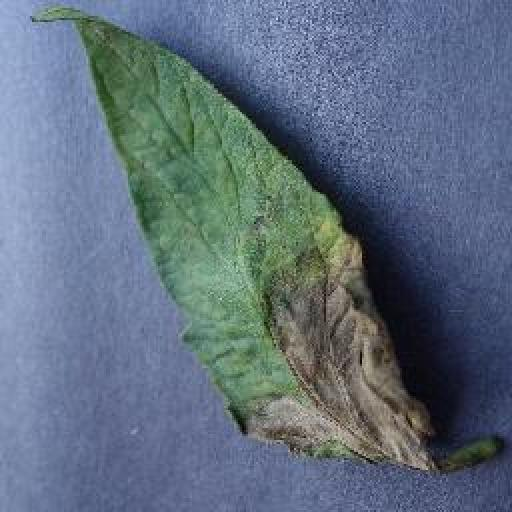Late Blight: (31, 7, 441, 480)
